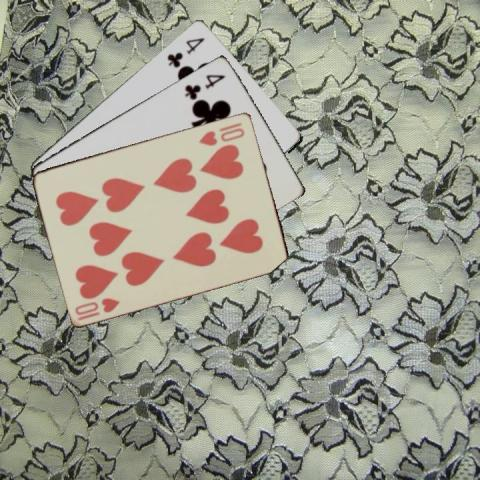10h: (196, 119, 247, 147), (72, 294, 121, 321)
4c: (164, 34, 206, 69), (182, 70, 227, 100)
